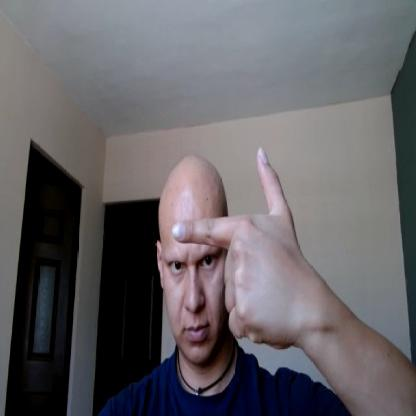G: (173, 146, 299, 346)
